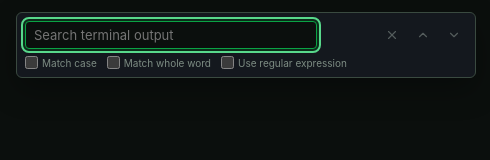
TerminalSearchOverlay › shows result counts and an explicit no-results state
The image size is (490, 160).
In the search field labelled "Search terminal output": (171, 35) x1=25 y1=21 x2=317 y2=49, type "needle"
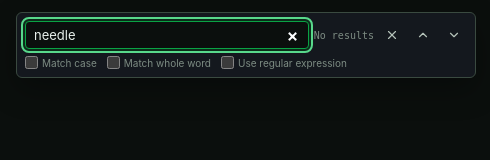
Expected: the text "No results" is shown, x1=314 y1=30 x2=374 y2=40
